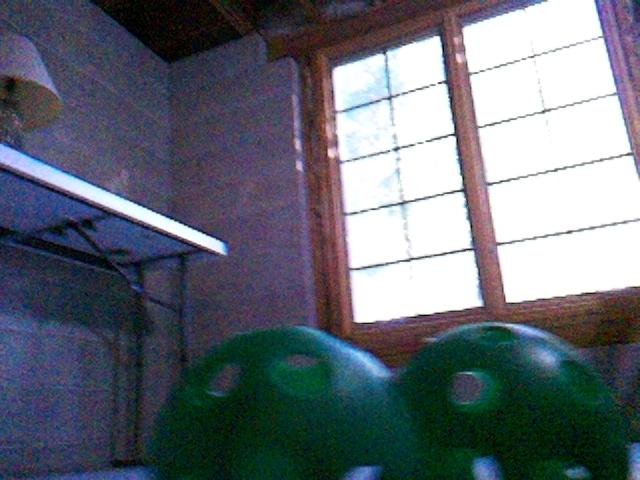Green: (154, 330, 415, 480), (391, 325, 626, 480)
